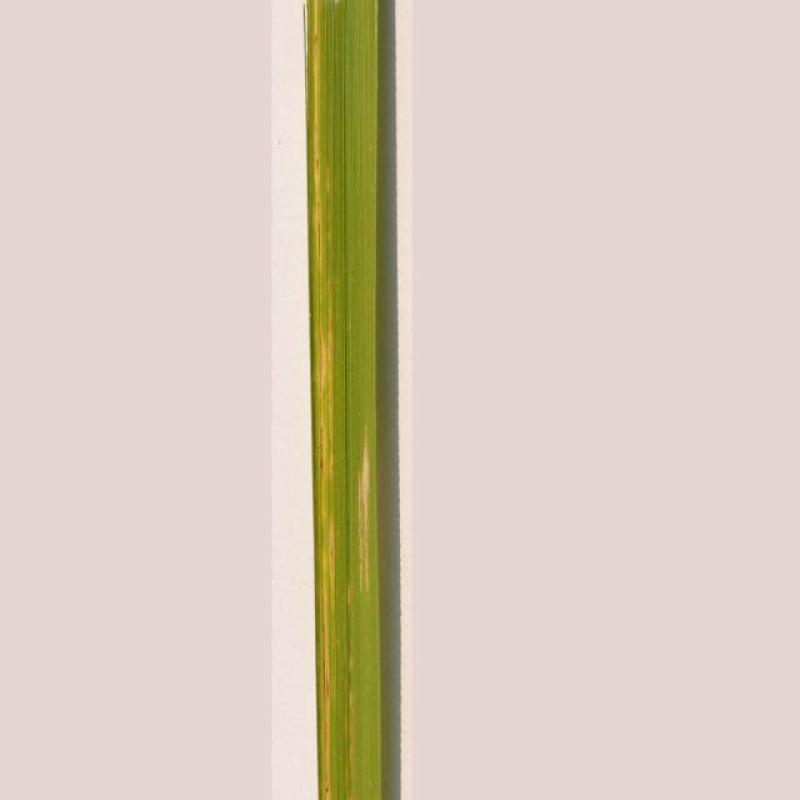Bacterial_Leaf_Blight: (294, 14, 344, 786), (332, 430, 398, 616)
